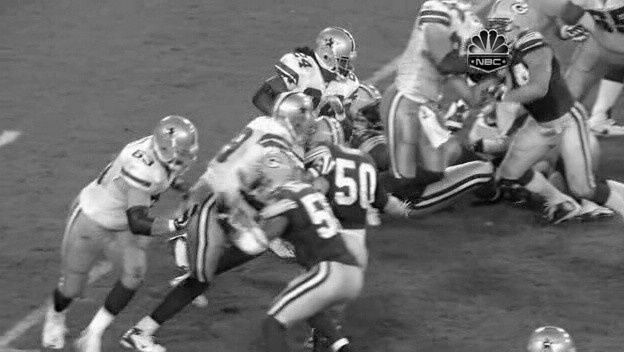person: (322, 27, 357, 72), (321, 27, 356, 72), (323, 27, 358, 72), (322, 26, 357, 71), (322, 28, 357, 73)
target_negative: (350, 213, 555, 303), (26, 59, 383, 110), (276, 106, 400, 241), (498, 120, 571, 223), (586, 160, 608, 310), (152, 224, 167, 284)
